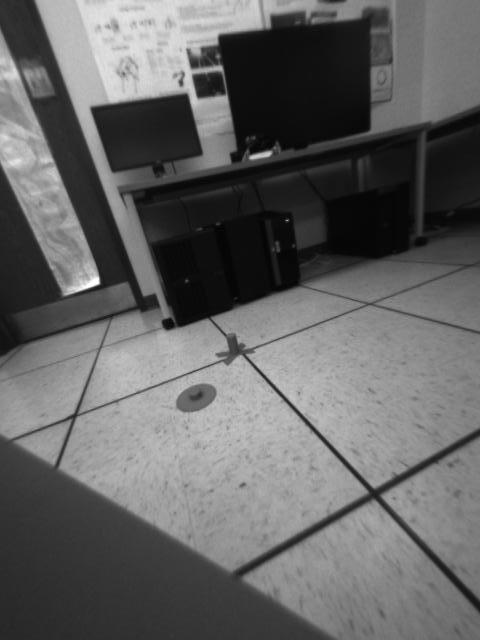X: (216, 333, 255, 365)
